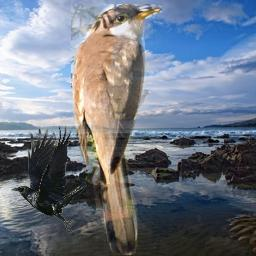Crow: (11, 124, 87, 234)
Cuckoo: (71, 4, 162, 255)
